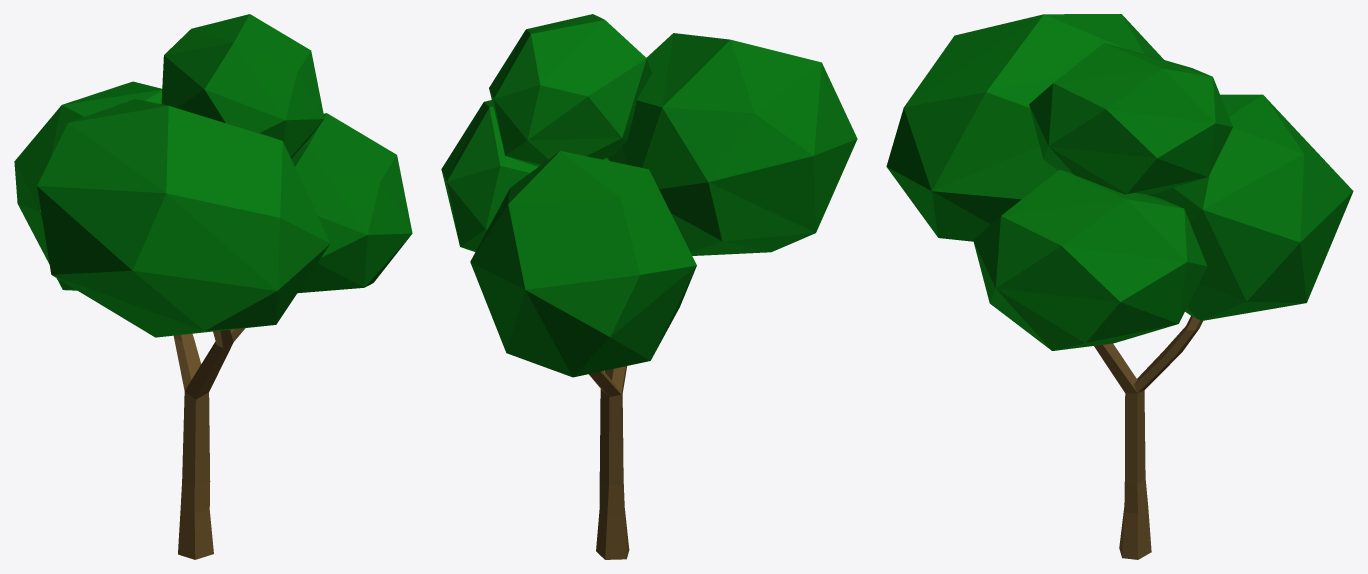
File: Tree-01-D.fbx
The picture shows the model from 3 angles, left to right: view 1: azimuth 30°, elevation 25°; view 2: azimuth 150°, elevation 25°; view 3: azimuth 270°, elevation 25°; orthographic projection.
Parts seen in each view (by area): view 1: Trees-01-D; view 2: Trees-01-D; view 3: Trees-01-D.
Boxes of the visible parts, bbox=[...] form: Trees-01-D: bbox=[14, 14, 412, 559]; Trees-01-D: bbox=[441, 14, 857, 559]; Trees-01-D: bbox=[886, 14, 1353, 559].
Size of what is drawn, in the model's own units: 6.37 by 8.77 by 7.13.
